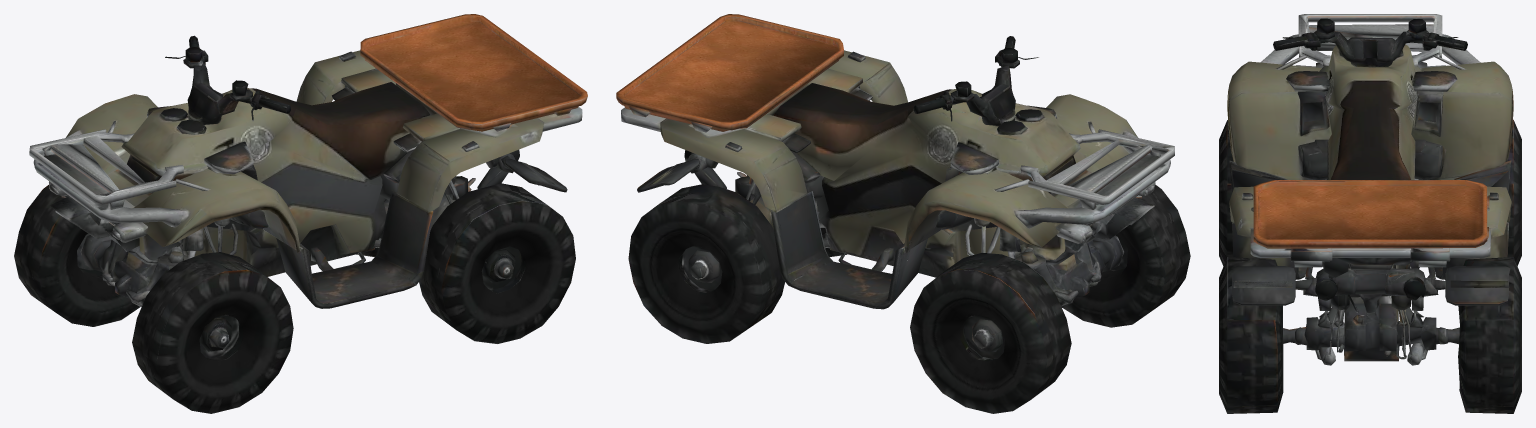
Rendered from v_quad.glb.
The picture shows the model from 3 angles, left to right: view 1: azimuth 30°, elevation 25°; view 2: azimuth 150°, elevation 25°; view 3: azimuth 270°, elevation 25°; orthographic projection.
Bounding box in the file's own units: 0.9497 × 0.5322 × 0.521.
Materials: 1 (1 with a texture image).
